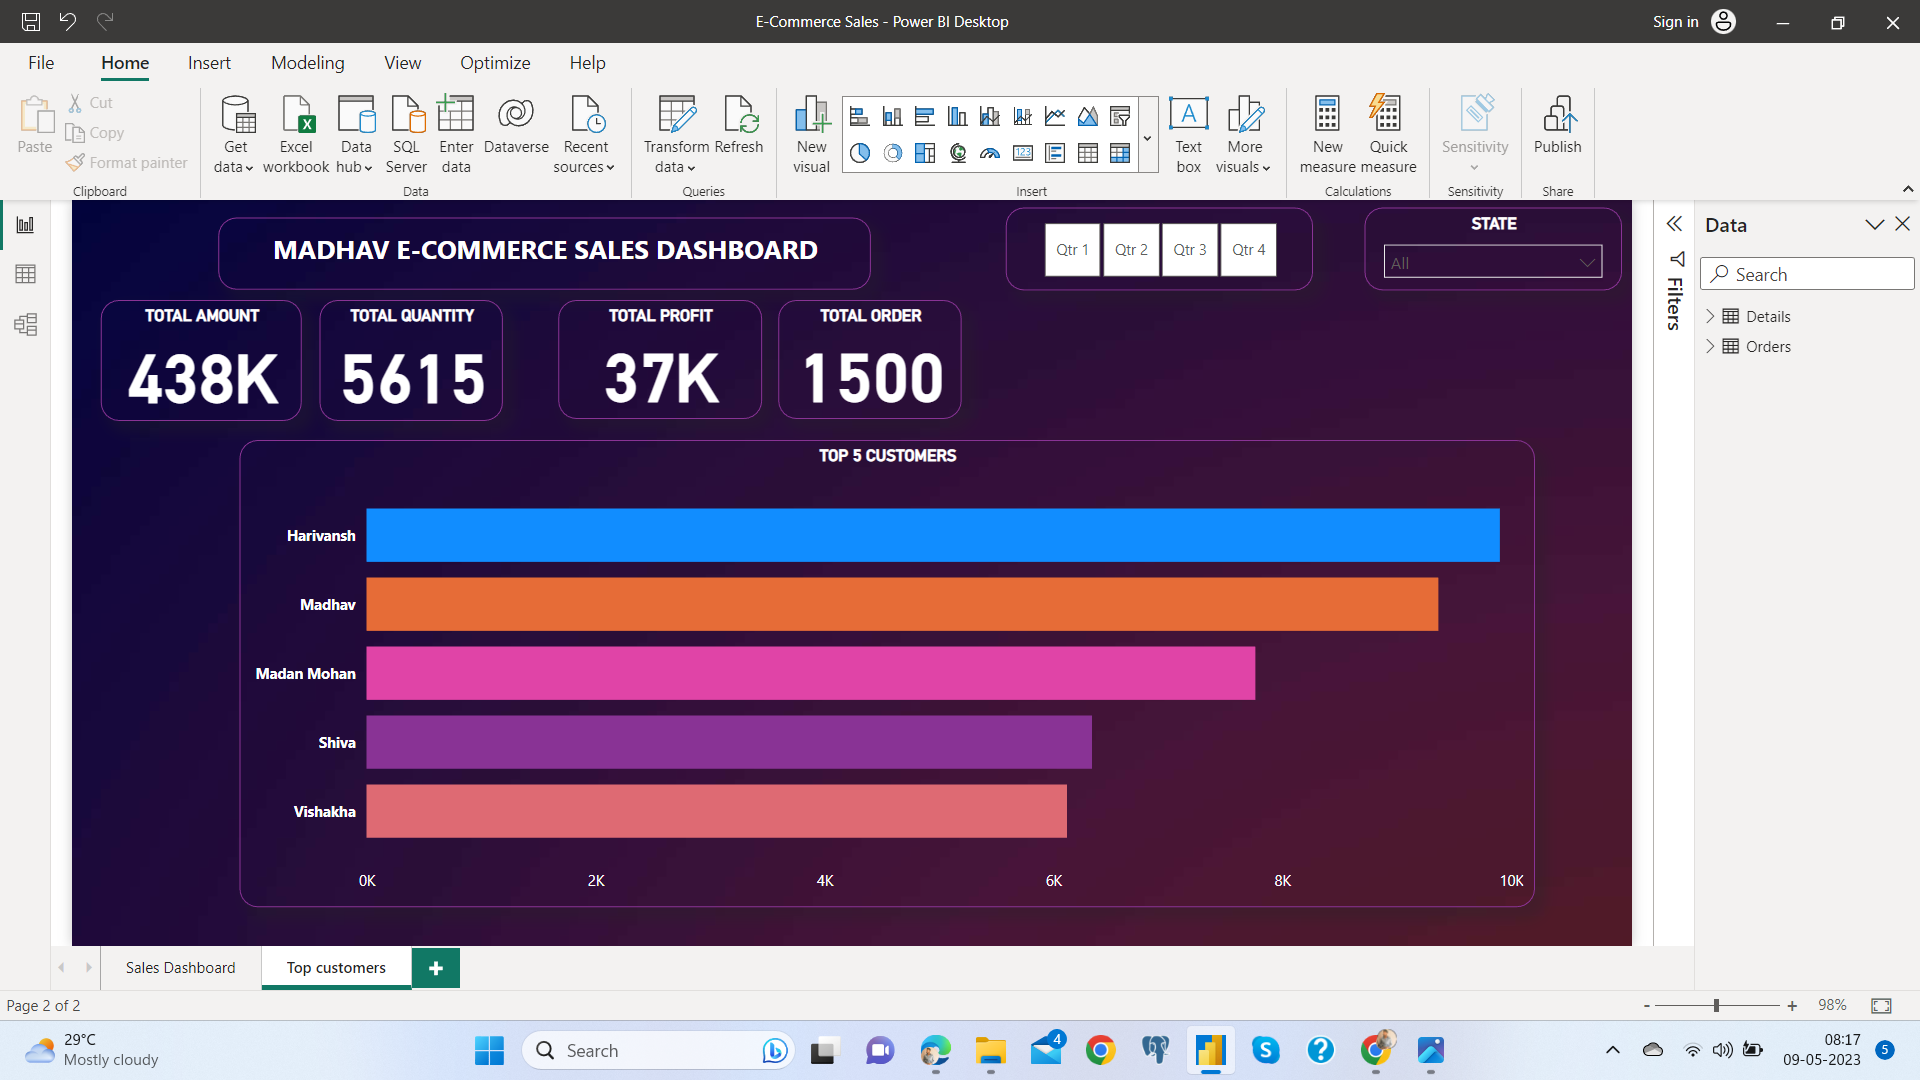

Layout of this report page (visuals, bound fields, positions):
{"tool":"powerbi","page":{"name":"Top Customers","canvas":[1280,612],"ordinal":1},"visuals":[{"type":"textbox","box":[119.9,14.4,535.1,59.5],"z":0},{"type":"card","title":"TOTAL AMOUNT","fields":{"Values":["Sum(Details.Amount)"]},"box":[23.6,82,165,99.4],"z":5000},{"type":"card","title":"TOTAL QUANTITY","fields":{"Values":["Sum(Details.Quantity)"]},"box":[203,82,150.7,99.4],"z":6000},{"type":"card","title":"TOTAL PROFIT","fields":{"Values":["Sum(Details.Profit)"]},"box":[398.8,82,167.1,97.4],"z":7000},{"type":"clusteredBarChart","title":"TOP 5 CUSTOMERS","fields":{"Category":["Orders.CustomerName"],"Y":["Sum(Details.Amount)"]},"box":[137.4,196.8,1062,383.4],"z":9000},{"type":"slicer","fields":{"Values":["Orders.Order Date.Variation.Date Hierarchy.Quarter"]},"box":[765.8,6.2,252.2,67.7],"z":10000},{"type":"slicer","title":"STATE","fields":{"Values":["Orders.State"]},"box":[1060,6.2,211.2,67.7],"z":11000},{"type":"card","title":"TOTAL ORDER","fields":{"Values":["CountNonNull(Details.Order ID)"]},"box":[579.2,82,150.7,97.4],"z":12000}]}

Visuals, with their boxes on the page's 1280x612 design canvas (x1, y1, x2, y2). These are canvas units, not pixel positions in the 1920x1080 screenshot, which may show the page scaled, cropped or inside an application window:
textbox: 120:14:655:74
"TOTAL AMOUNT" card: 24:82:189:181
"TOTAL QUANTITY" card: 203:82:354:181
"TOTAL PROFIT" card: 399:82:566:179
"TOP 5 CUSTOMERS" clusteredBarChart: 137:197:1199:580
slicer - Orders.Order Date.Variation.Date Hierarchy.Quarter: 766:6:1018:74
"STATE" slicer: 1060:6:1271:74
"TOTAL ORDER" card: 579:82:730:179
